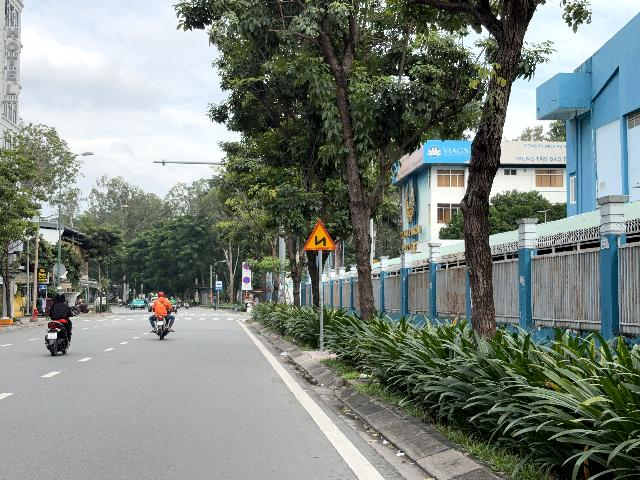nhieu-cho-ngoat-nguy-hiem-lien-tiep: (303, 219, 337, 250)
